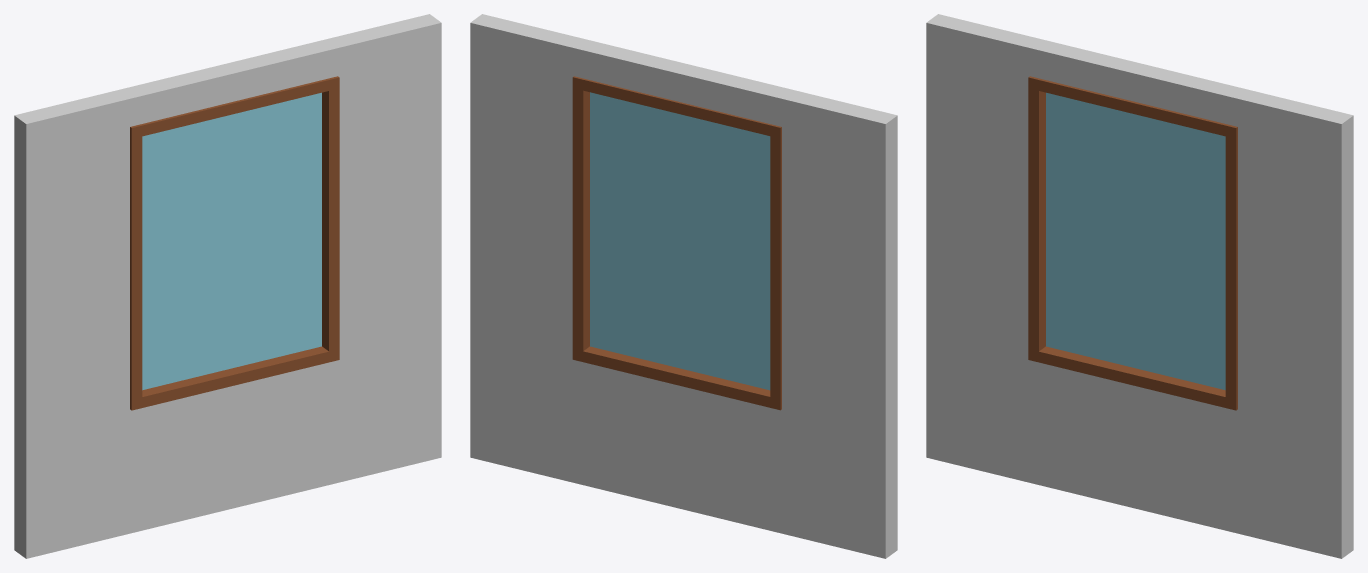
Rendered from Janela.fbx.
The picture shows the model from 3 angles, left to right: view 1: azimuth 30°, elevation 25°; view 2: azimuth 150°, elevation 25°; view 3: azimuth 330°, elevation 25°; orthographic projection.
Parts seen in each view (by area): view 1: 4x4_WindowWall; view 2: 4x4_WindowWall; view 3: 4x4_WindowWall.
Part boxes in pixels (x1,y1,x2,y2): 4x4_WindowWall: (14, 14, 441, 558); 4x4_WindowWall: (470, 14, 897, 558); 4x4_WindowWall: (926, 14, 1353, 558).
Size of the model in its own units: 400 by 400 by 25.
